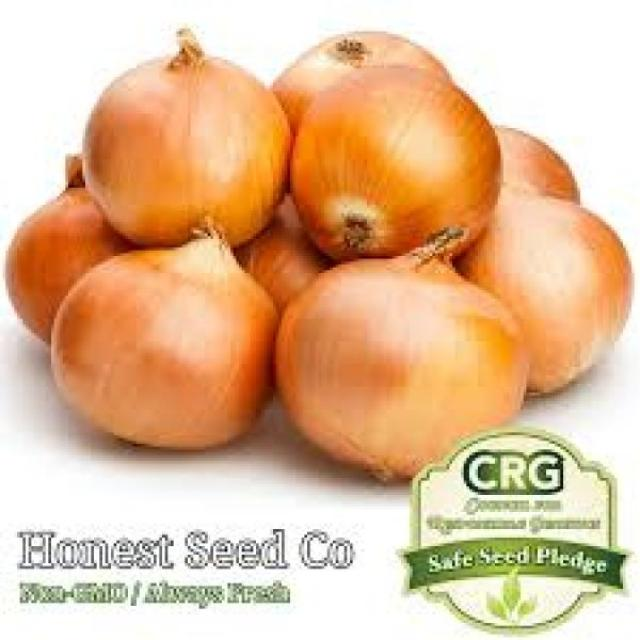Onion: (272, 258, 531, 484), (272, 31, 503, 266), (47, 226, 279, 454), (80, 29, 294, 250), (454, 166, 634, 399)
